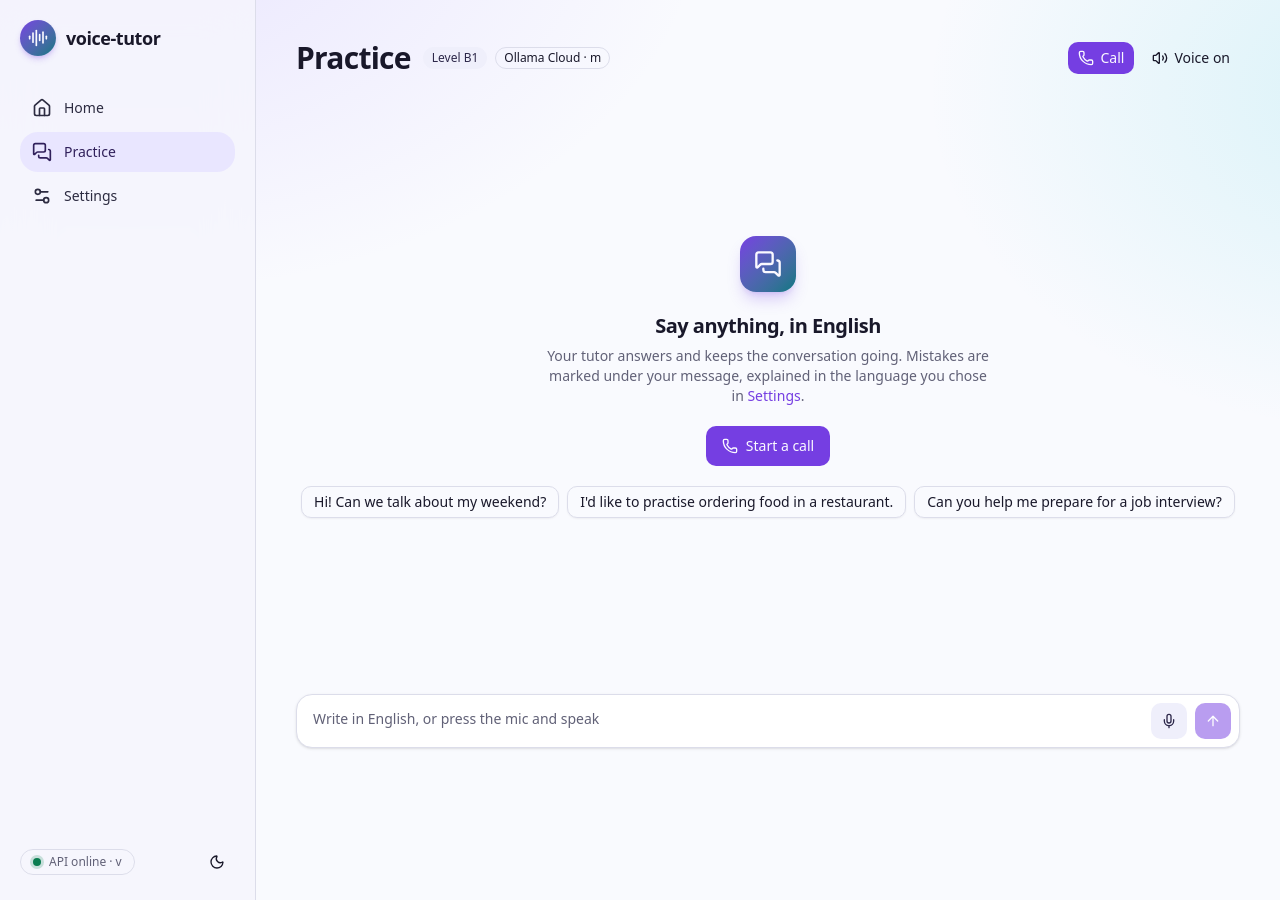
Test: Speaking › streams the microphone while recording, then asks for a transcription
Expected: the heading "Practice" is shown, x1=296 y1=40 x2=411 y2=76
Click the button named "Speak".
click(1169, 721)  # box x1=1151 y1=703 x2=1187 y2=739
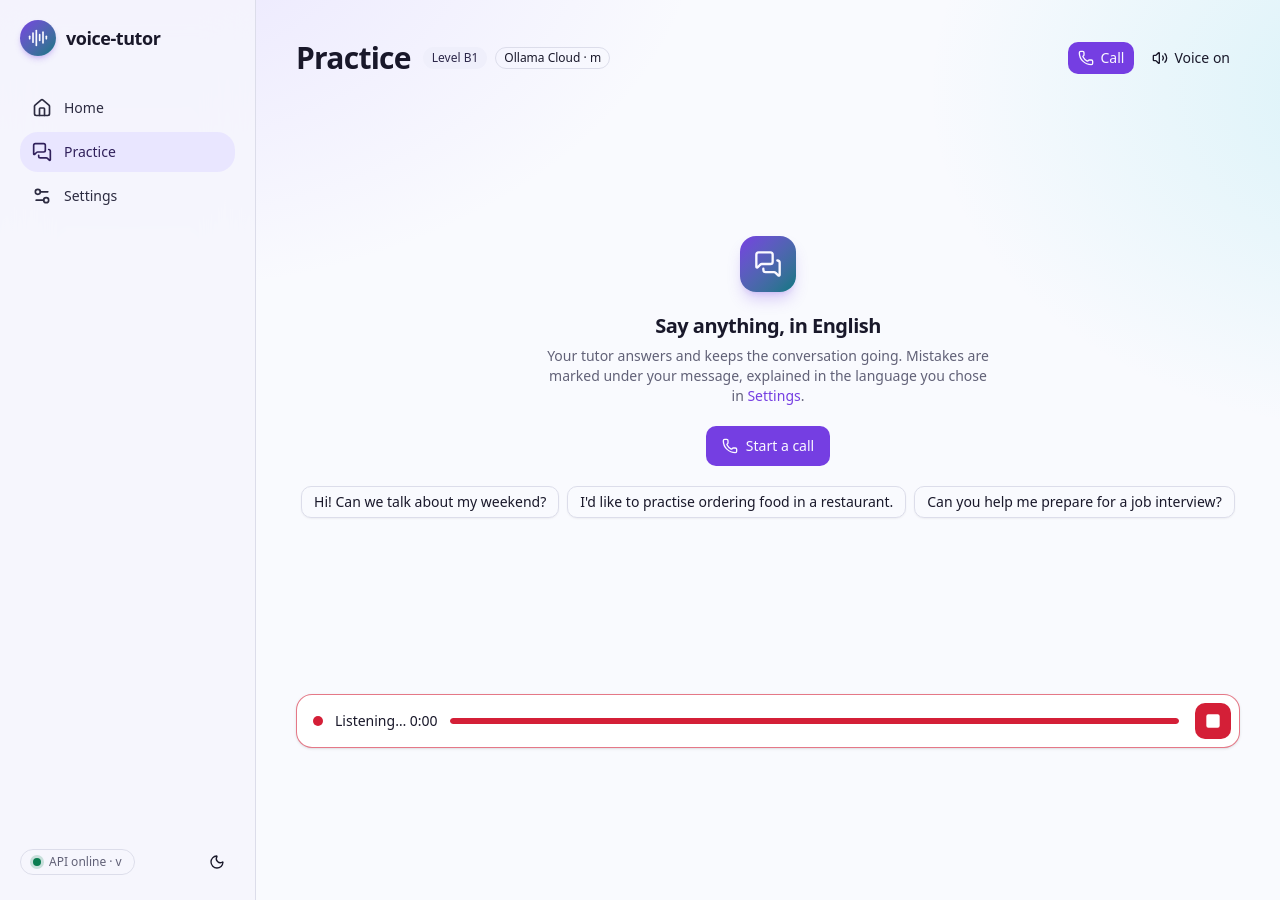
Result: the text "Listening… 0:00" is shown at x1=335 y1=711 x2=438 y2=731
Result: the text box labelled "Message" is gone
Click the button named "Stop and send".
click(1213, 721)  # box x1=1195 y1=703 x2=1231 y2=739
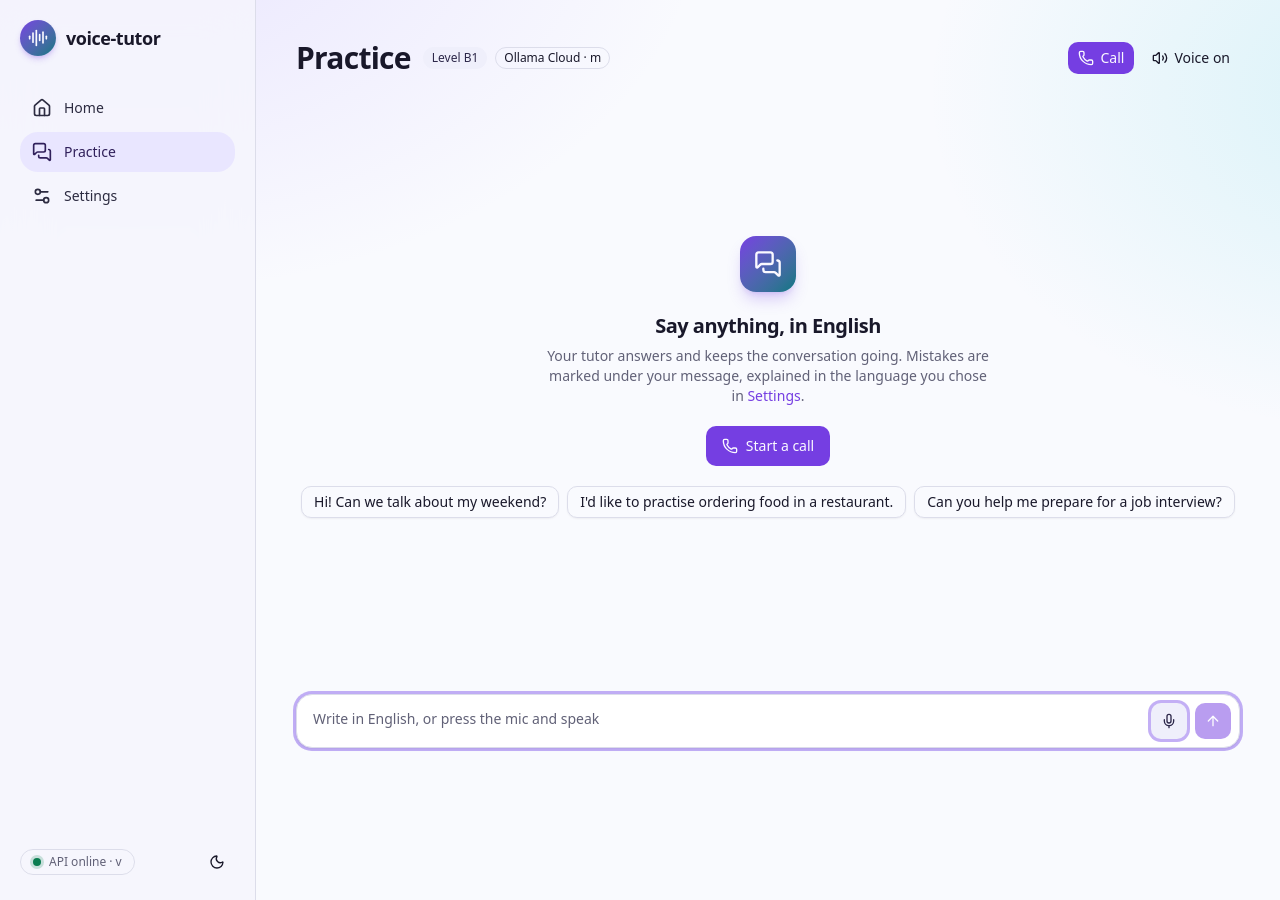
Result: the text box named "Message" is shown at x1=305 y1=703 x2=1143 y2=739
